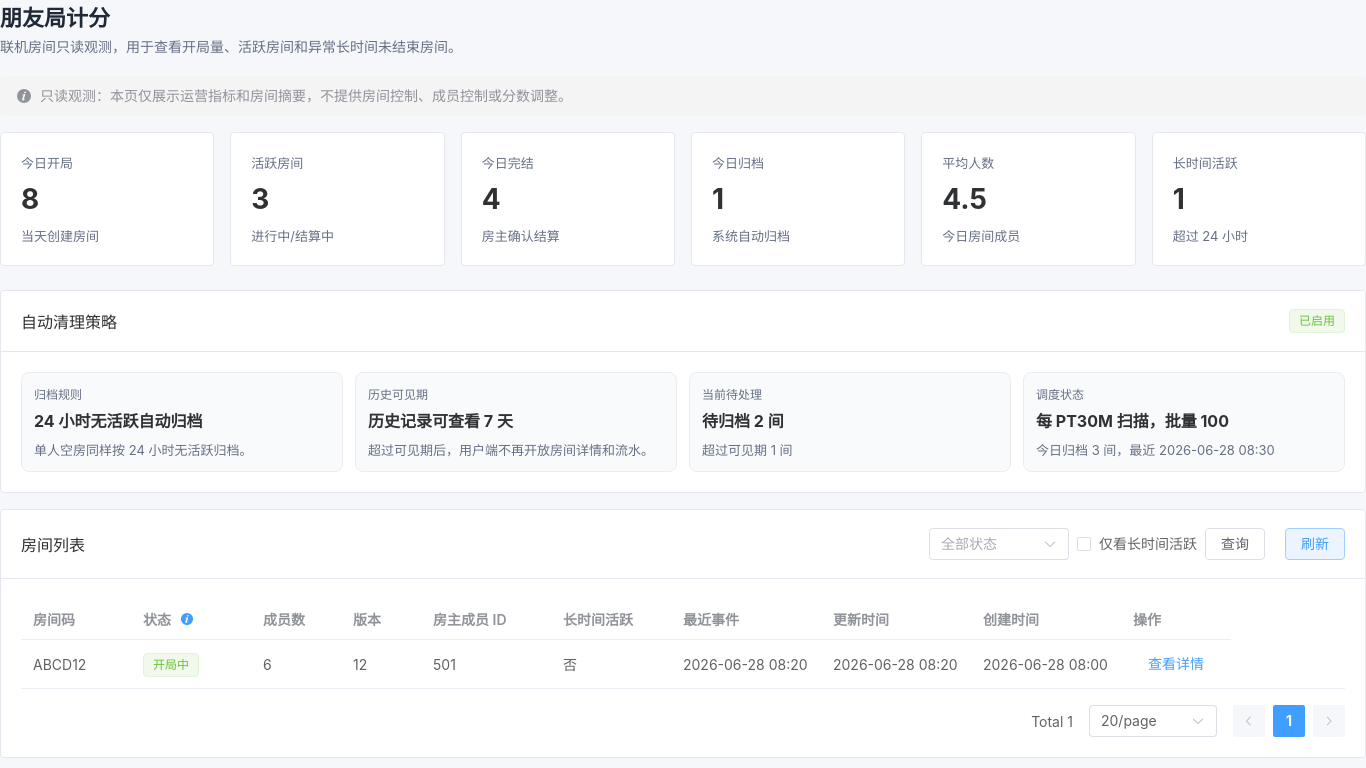
it: PartyScorePage › uses backend dictionary status metadata when available
Click the button named "状态说明" at (187, 619), box 175,607 -> 199,631
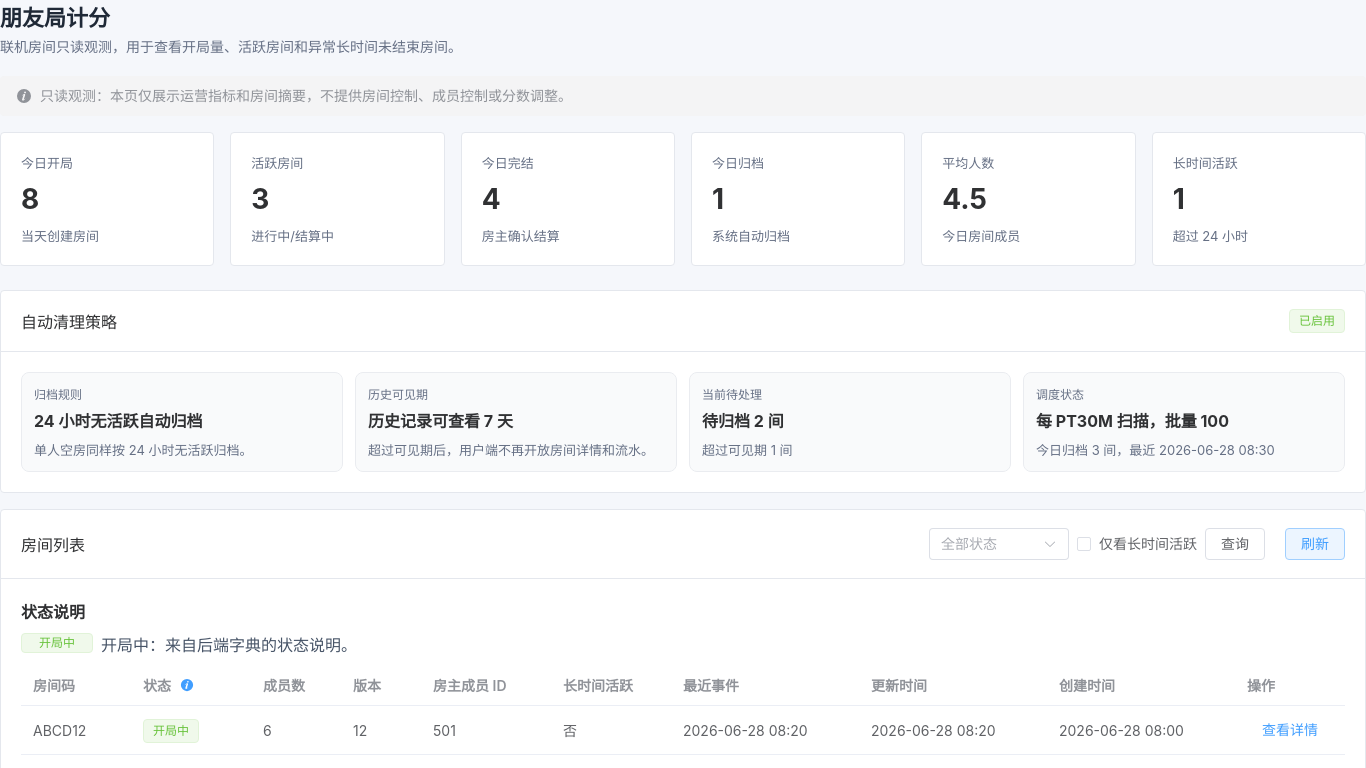
Expected: the text "开局中" is shown, 39,637 -> 75,649
Now the text "开局中：来自后端字典的状态说明。" is shown, box 101,635 -> 357,655
